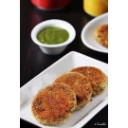cutlet: (33, 84, 76, 122), (56, 73, 93, 105), (71, 63, 107, 94)
